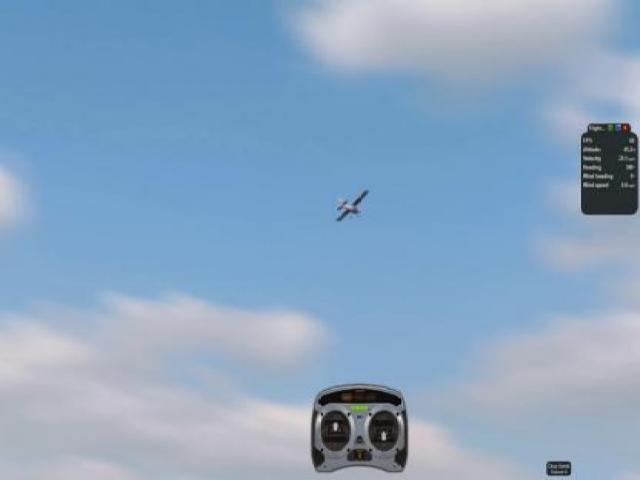uav: (333, 188, 370, 223)
